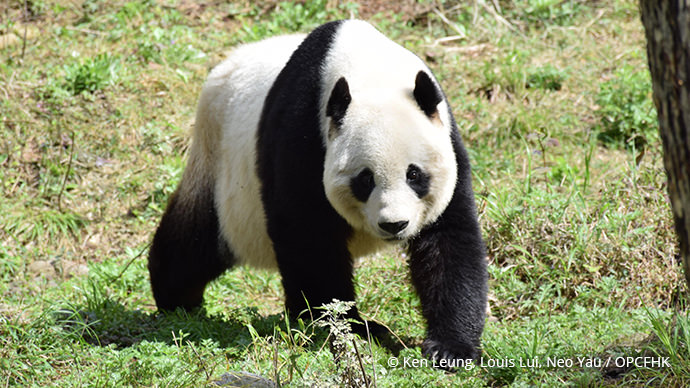panda: (142, 16, 487, 365)
